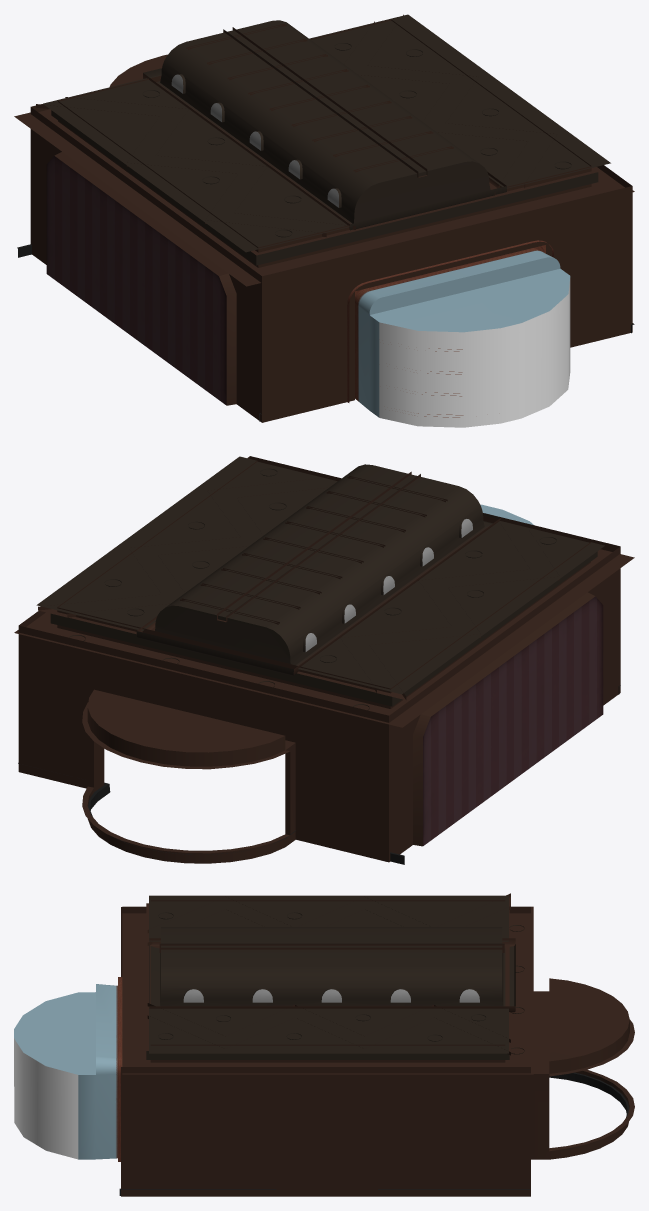
File: mesh_wall.FBX
3 renders of one model, top to bottom at view 1: azimuth 30°, elevation 25°; view 2: azimuth 150°, elevation 25°; view 3: azimuth 270°, elevation 25°, orthographic. The views are drawn at different scales.
Parts seen in each view (by area): view 1: wall; view 2: wall; view 3: wall.
Part boxes in pixels (x1,y1,x2,y2): wall: [14, 14, 634, 427]; wall: [14, 456, 634, 864]; wall: [14, 893, 634, 1196].
Bounding box in the file's own units: 480 × 227 × 750.
Materials: 2 (1 with a texture image).
